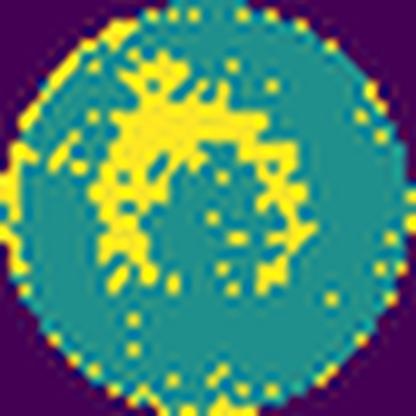Donut: (93, 52, 318, 305)
